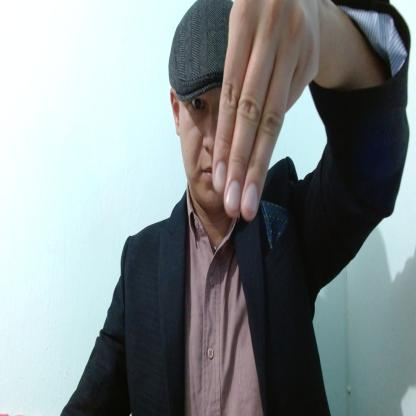M: (212, 0, 322, 220)
